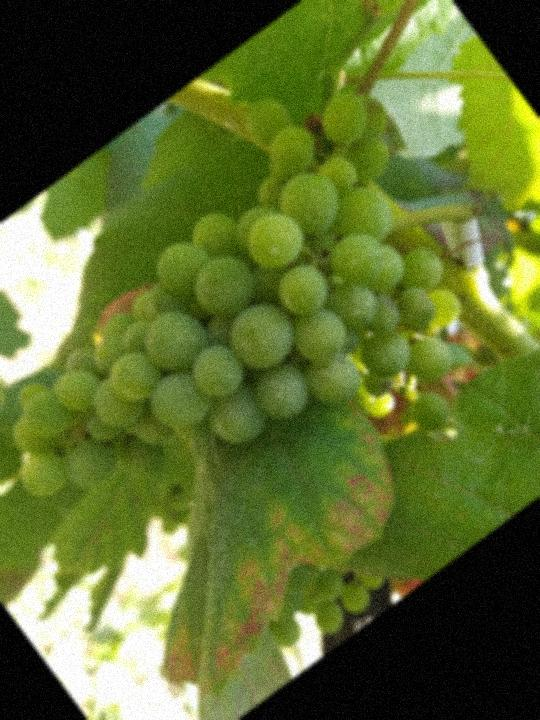grape: (0, 36, 540, 654)
